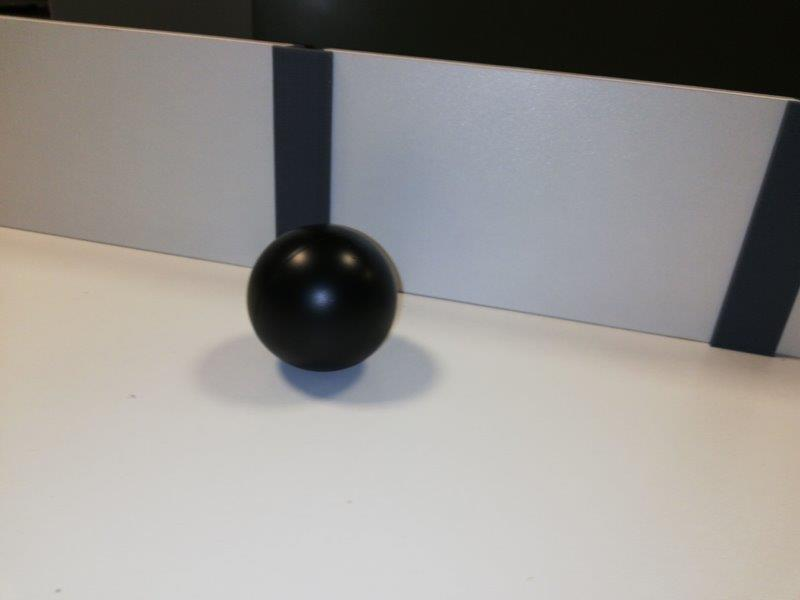nera: (249, 223, 398, 375)
